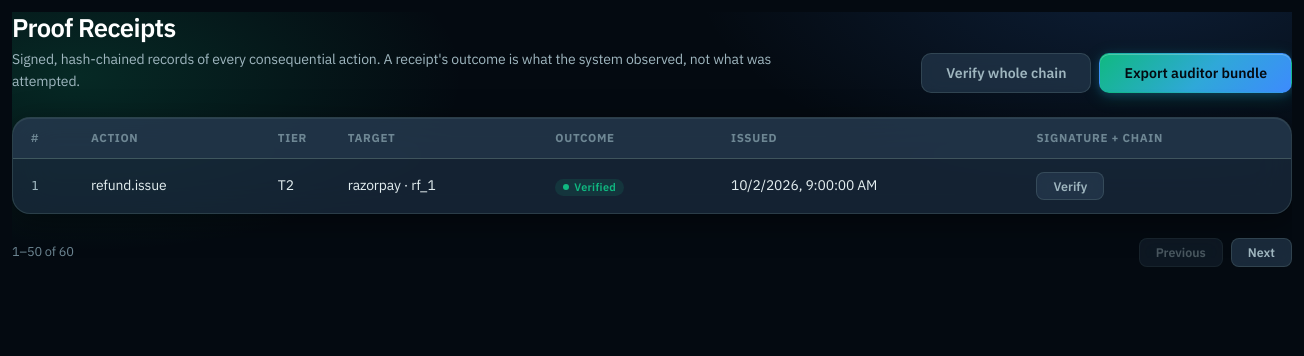
Test: Proof Receipts › pages through receipts and fetches the full auditor export only when asked
The image size is (1304, 356).
Expected: the text "1–50 of 60" is shown, [12, 242, 74, 263]
Click the button "Next". click: (1261, 253)
box: [1231, 238, 1292, 267]
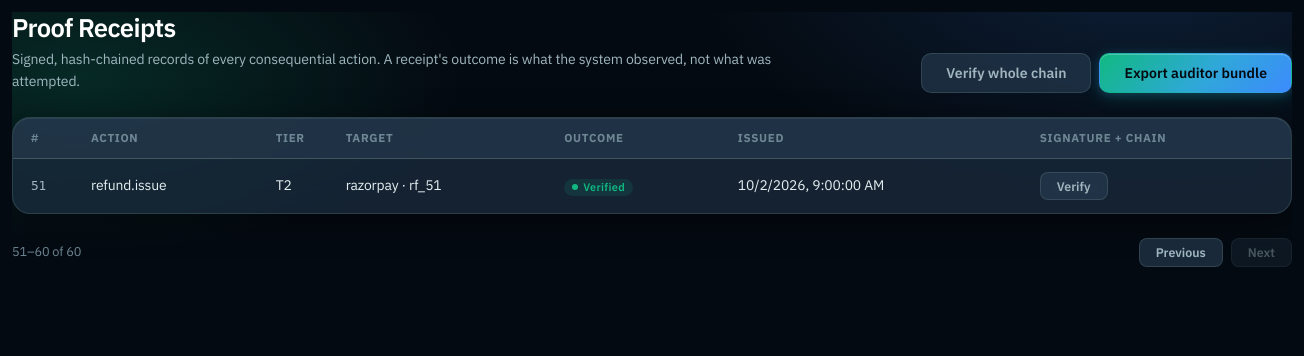
Expected: the text "51–60 of 60" is shown, [12, 242, 81, 263]
Click the button "Export auditor bundle". click: (1196, 73)
box: [1099, 53, 1292, 93]
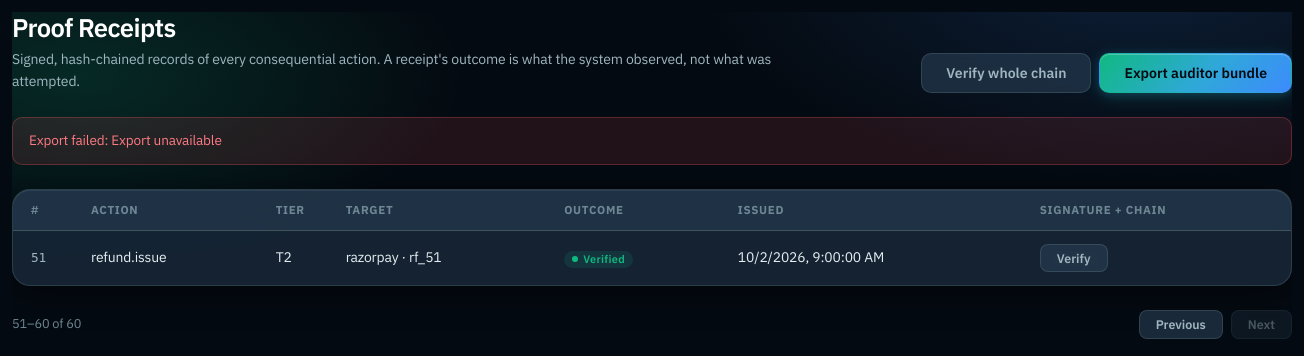
Expected: the message reads "Export failed: Export unavailable", [12, 117, 1292, 165]
